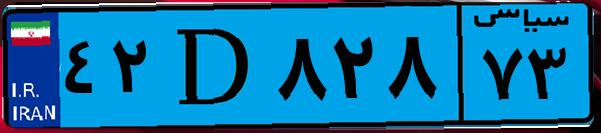2: (330, 28, 385, 110), (110, 28, 158, 98)
3: (525, 38, 570, 115)
4: (57, 26, 110, 100)
7: (475, 38, 525, 113)
8: (270, 28, 330, 110), (385, 28, 445, 110)
D: (158, 12, 270, 120)
